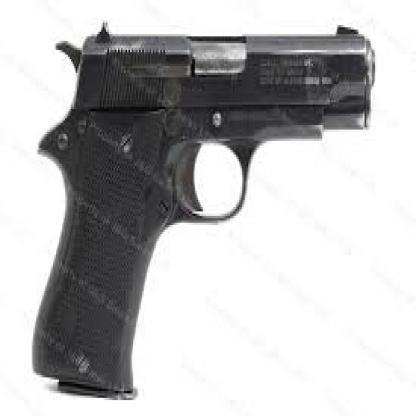Pistol: (29, 25, 376, 400)
